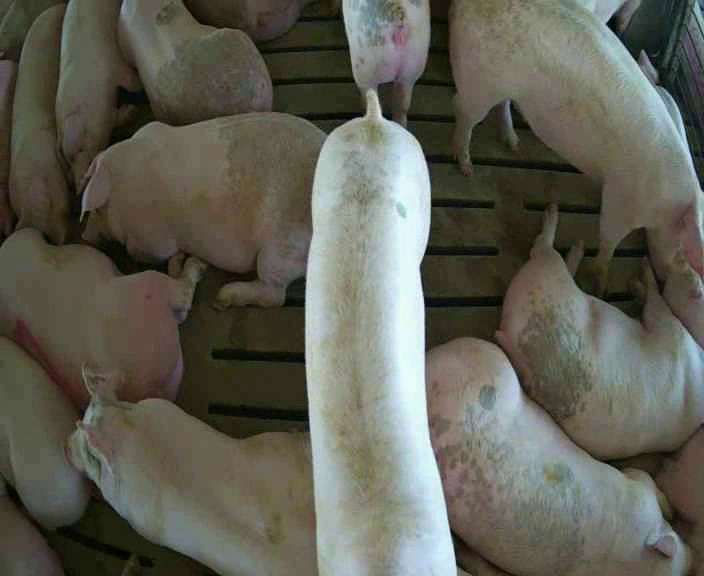pig: (306, 90, 454, 574), (427, 338, 685, 573), (496, 204, 703, 458), (69, 366, 316, 573), (82, 112, 325, 305), (118, 2, 272, 124), (56, 2, 140, 192), (9, 5, 71, 243), (185, 0, 304, 42)
